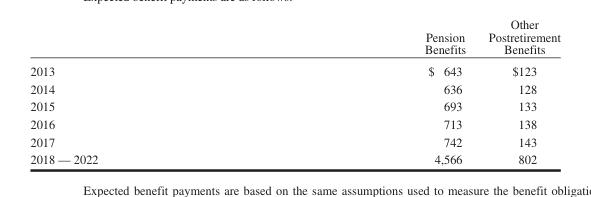table: (29, 29, 559, 165)
table column: (29, 29, 260, 165), (260, 29, 476, 165), (476, 29, 559, 165)
table column header: (29, 29, 559, 59)
table row: (29, 29, 559, 59), (29, 59, 559, 79), (29, 79, 559, 97), (29, 114, 559, 132), (29, 132, 559, 150), (29, 97, 559, 114), (29, 150, 559, 165)
